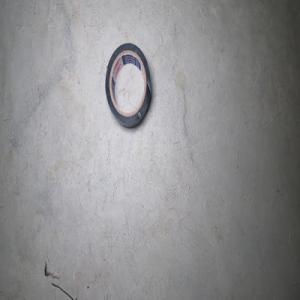Tape: (105, 42, 151, 128)
